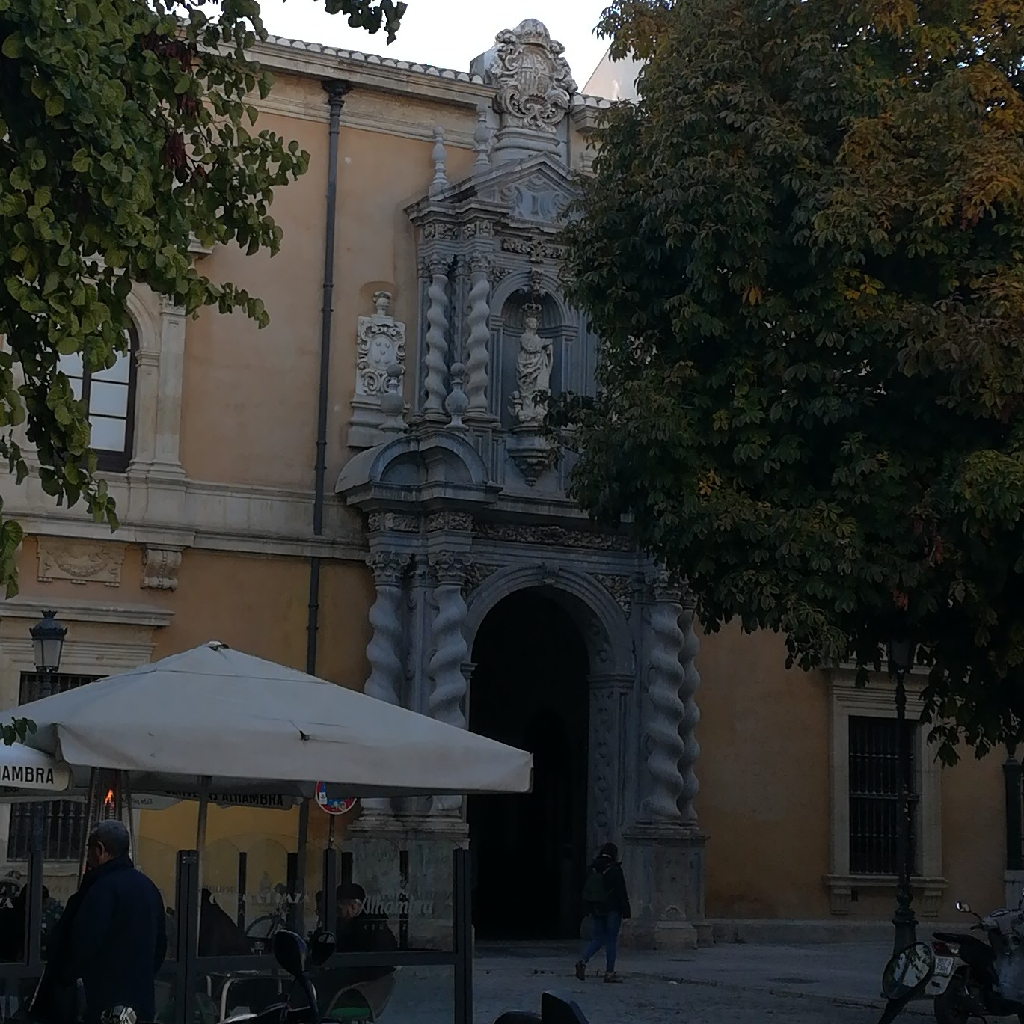arco-medio-punto: (467, 577, 628, 703)
columna-salomonica: (644, 596, 699, 821), (422, 576, 470, 732), (364, 584, 402, 707), (466, 271, 495, 415), (426, 272, 448, 413)
